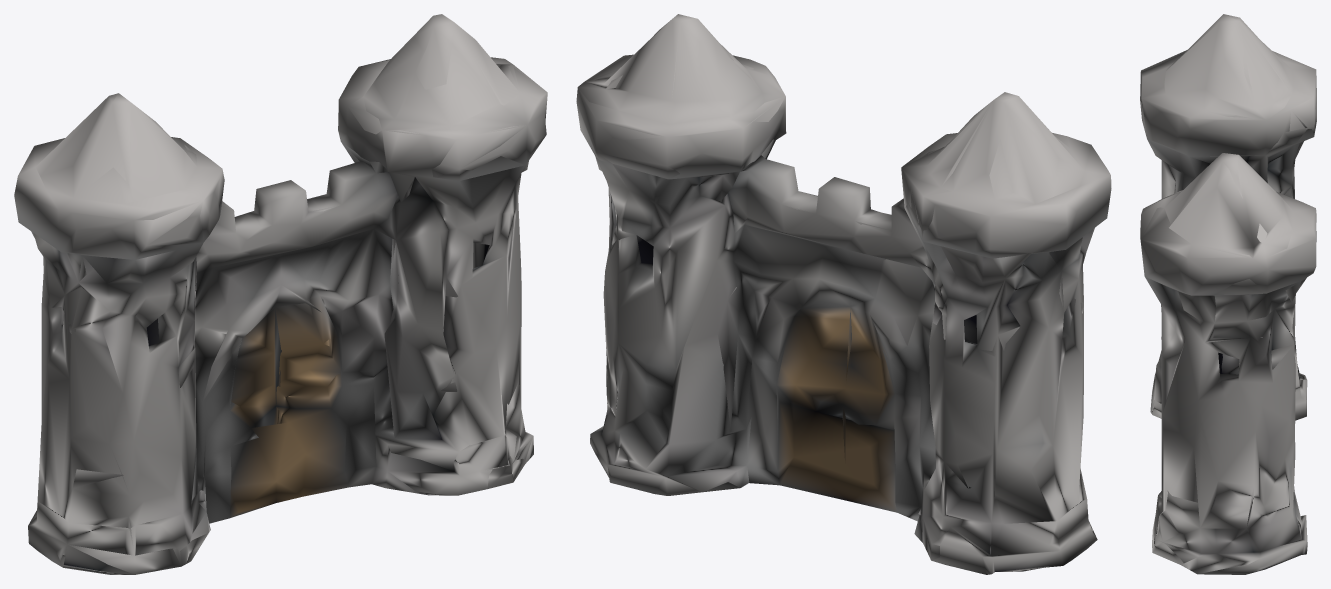
The model's file is gen3d-castle-gate-lod0.glb.
3 renders of one model, left to right at view 1: azimuth 30°, elevation 25°; view 2: azimuth 150°, elevation 25°; view 3: azimuth 270°, elevation 25°, orthographic. The views are drawn at different scales.
Visible parts, largest first — view 1: part_0; view 2: part_0; view 3: part_0.
Boxes of the visible parts, left/top/right/bottom form: part_0: left=14, top=14, right=547, bottom=574; part_0: left=576, top=14, right=1111, bottom=574; part_0: left=1140, top=14, right=1316, bottom=574.
Size of the model in its own units: 1.16 by 0.9984 by 0.4132.
